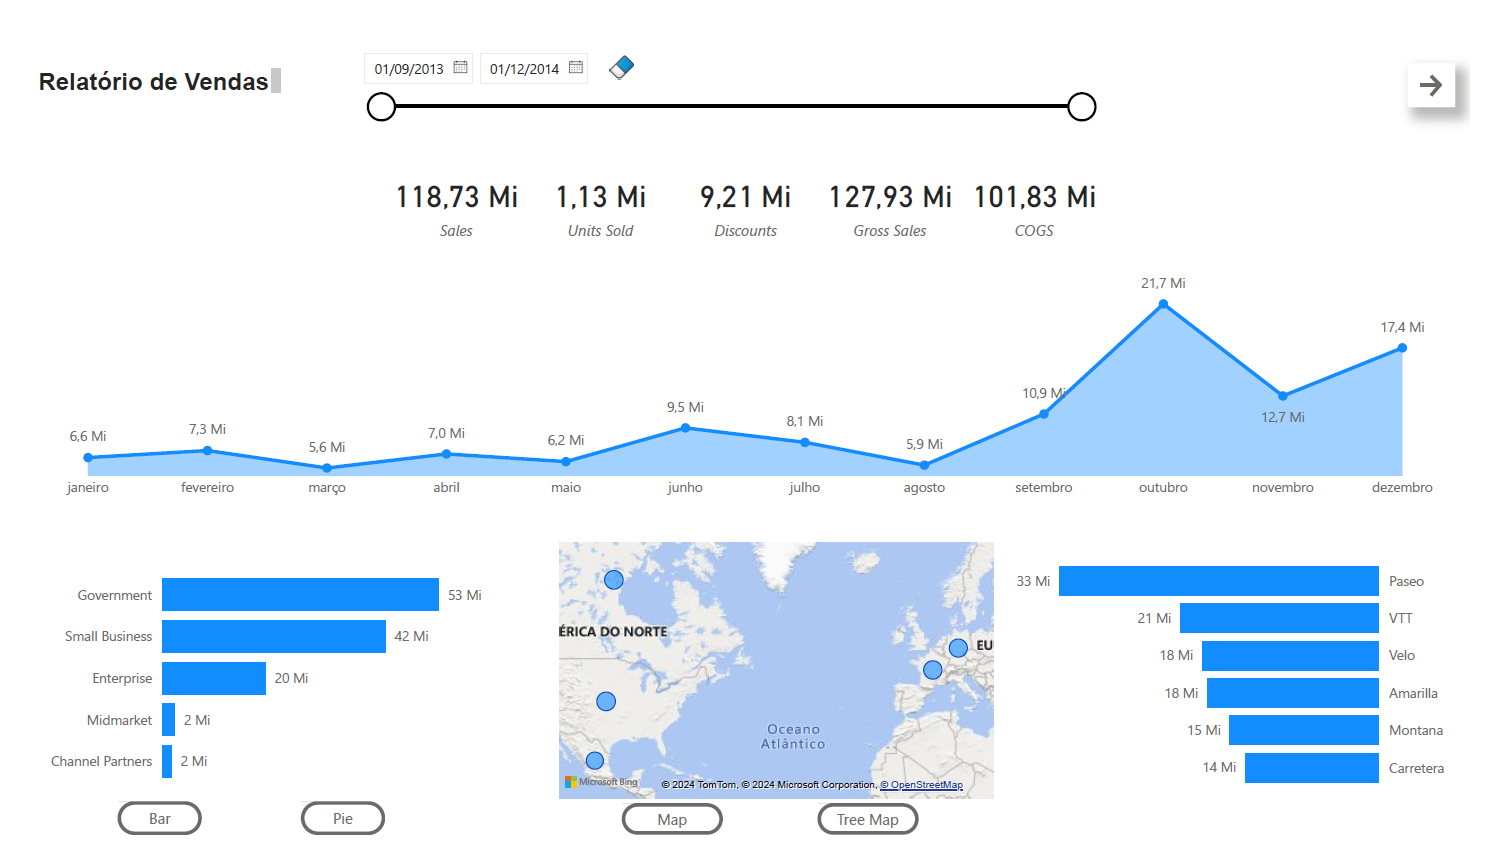

This screenshot's page, from the dashboard's own definition file:
{"tool":"powerbi","page":{"name":"Página 1","canvas":[1280,720],"ordinal":0},"visuals":[{"type":"card","fields":{"Values":["Sum(financials. Sales)"]},"box":[320.9,128.5,127.7,69.9],"z":0,"group":"g3"},{"type":"clusteredBarChart","fields":{"Category":["financials.Product"],"Y":["Sum(financials. Sales)"]},"box":[863.9,456.7,403.7,235.9],"z":0},{"type":"clusteredBarChart","title":"Segment_Bar","fields":{"Category":["financials.Segment"],"Y":["Sum(financials. Sales)"]},"box":[12.4,466.4,406.6,224.3],"z":0,"group":"g2"},{"type":"card","fields":{"Values":["Sum(financials.Units Sold)"]},"box":[448.6,128.5,127.7,69.9],"z":1000,"group":"g3"},{"type":"group","id":"g1","title":"Country","box":[470.6,456.7,393.3,239.4],"z":1000},{"type":"card","fields":{"Values":["Sum(financials.Discounts)"]},"box":[576.2,128.5,127.7,69.9],"z":2000,"group":"g3"},{"type":"group","id":"g2","title":"Segment","box":[12.4,466,406.7,224.6],"z":2000},{"type":"card","fields":{"Values":["Sum(financials.Gross Sales)"]},"box":[703.9,128.5,127.7,69.9],"z":3000,"group":"g3"},{"type":"lineChart","fields":{"Y":["Sum(financials. Sales)"],"Category":["financials.Date.Variation.Hierarquia de datas.Mês"]},"box":[12.1,207,1255.8,224.3],"z":3000},{"type":"group","id":"g3","title":"Cards","box":[320.9,128.5,638.3,69.9],"z":4000},{"type":"card","fields":{"Values":["Sum(financials.COGS)"]},"box":[831.5,128.5,127.7,69.9],"z":4000,"group":"g3"},{"type":"slicer","fields":{"Values":["financials.Date"]},"box":[290.7,19,668.5,77.6],"z":5000},{"type":"actionButton","box":[1225,38.3,42.2,39.3],"z":6000},{"type":"image","box":[512.8,26.5,34.4,31.4],"z":7000},{"type":"textbox","box":[10.4,38,224.3,39.7],"z":8000},{"type":"map","title":"Contry_Map","fields":{"Category":["financials.Country"],"Size":["Sum(financials. Sales)"]},"box":[470.6,456.7,393.3,235.9],"z":9000,"group":"g1"},{"type":"actionButton","title":"B_Pie","box":[246.9,690.1,74.4,29.7],"z":9000},{"type":"actionButton","title":"B_Bar","box":[85.3,690.1,74.4,29.7],"z":10000},{"type":"actionButton","title":"B_TreeMap","box":[704,692.1,89.2,27.8],"z":11000},{"type":"actionButton","title":"B_Map","box":[530.4,692.1,89.2,27.8],"z":11001}]}

Visuals, with their boxes in screenshot pixels (x1, y1, x2, y2), scaled from the page's 1280x720 canvas onto the 1486x856 screenshot:
card - Sum(financials. Sales): (left=373, top=153, right=521, bottom=236)
clusteredBarChart - financials.Product x Sum(financials. Sales): (left=1003, top=543, right=1472, bottom=823)
"Segment_Bar" clusteredBarChart: (left=14, top=554, right=486, bottom=821)
card - Sum(financials.Units Sold): (left=521, top=153, right=669, bottom=236)
"Country" group: (left=546, top=543, right=1003, bottom=828)
card - Sum(financials.Discounts): (left=669, top=153, right=817, bottom=236)
"Segment" group: (left=14, top=554, right=487, bottom=821)
card - Sum(financials.Gross Sales): (left=817, top=153, right=965, bottom=236)
lineChart - Sum(financials. Sales) x financials.Date.Variation.Hierarquia de datas.Mês: (left=14, top=246, right=1472, bottom=513)
"Cards" group: (left=373, top=153, right=1114, bottom=236)
card - Sum(financials.COGS): (left=965, top=153, right=1114, bottom=236)
slicer - financials.Date: (left=337, top=23, right=1114, bottom=115)
actionButton: (left=1422, top=46, right=1471, bottom=92)
image: (left=595, top=32, right=635, bottom=69)
textbox: (left=12, top=45, right=272, bottom=92)
"Contry_Map" map: (left=546, top=543, right=1003, bottom=823)
"B_Pie" actionButton: (left=287, top=820, right=373, bottom=855)
"B_Bar" actionButton: (left=99, top=820, right=185, bottom=855)
"B_TreeMap" actionButton: (left=817, top=823, right=921, bottom=855)
"B_Map" actionButton: (left=616, top=823, right=719, bottom=855)
